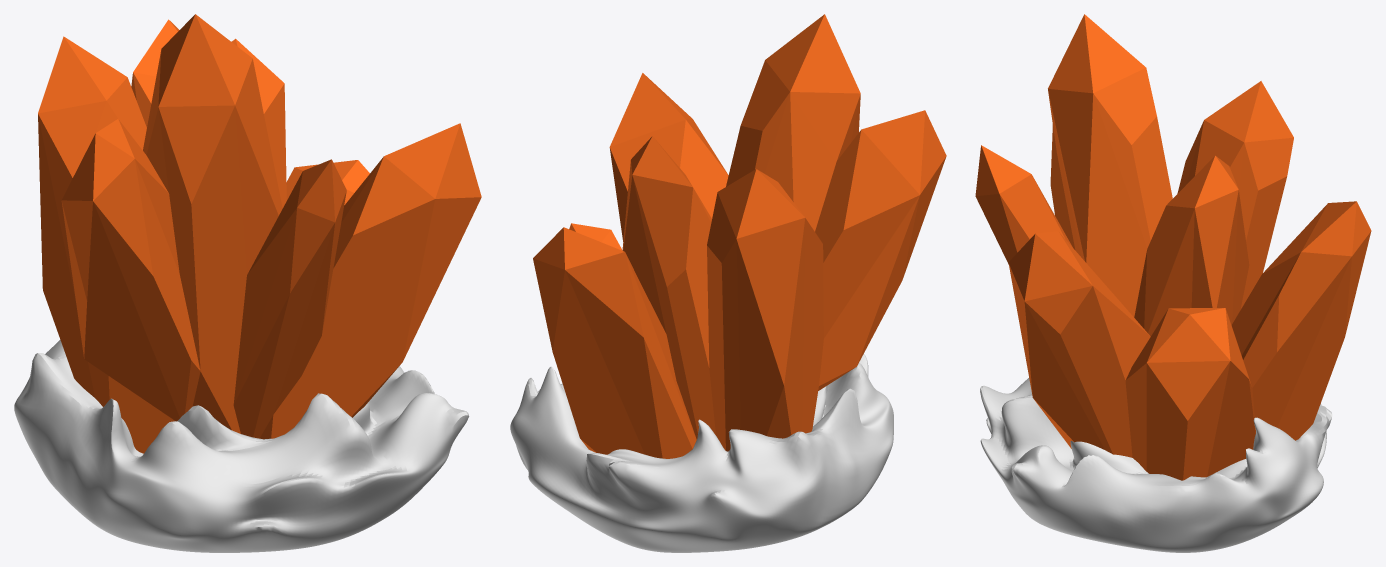
File: blocking cristaux.fbx
3 renders of one model, left to right at view 1: azimuth 30°, elevation 25°; view 2: azimuth 150°, elevation 25°; view 3: azimuth 270°, elevation 25°, orthographic. The views are drawn at different scales.
Visible parts, largest first — view 1: joined; view 2: joined; view 3: joined.
Part boxes in pixels (<box>): joined: <box>14,14,481,552</box>; joined: <box>510,14,946,552</box>; joined: <box>975,14,1371,552</box>.
Size of the model in its own units: 222 by 238 by 309.
